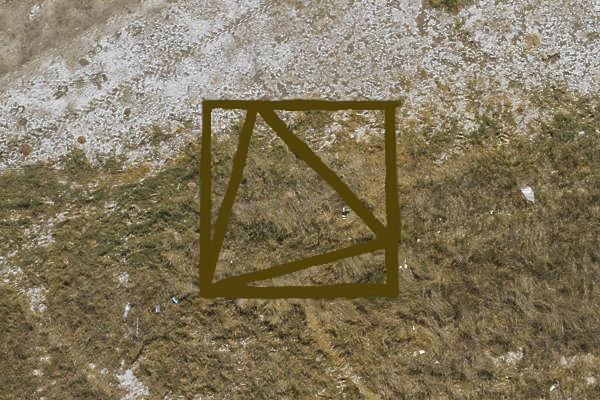marker: (197, 97, 404, 301)
